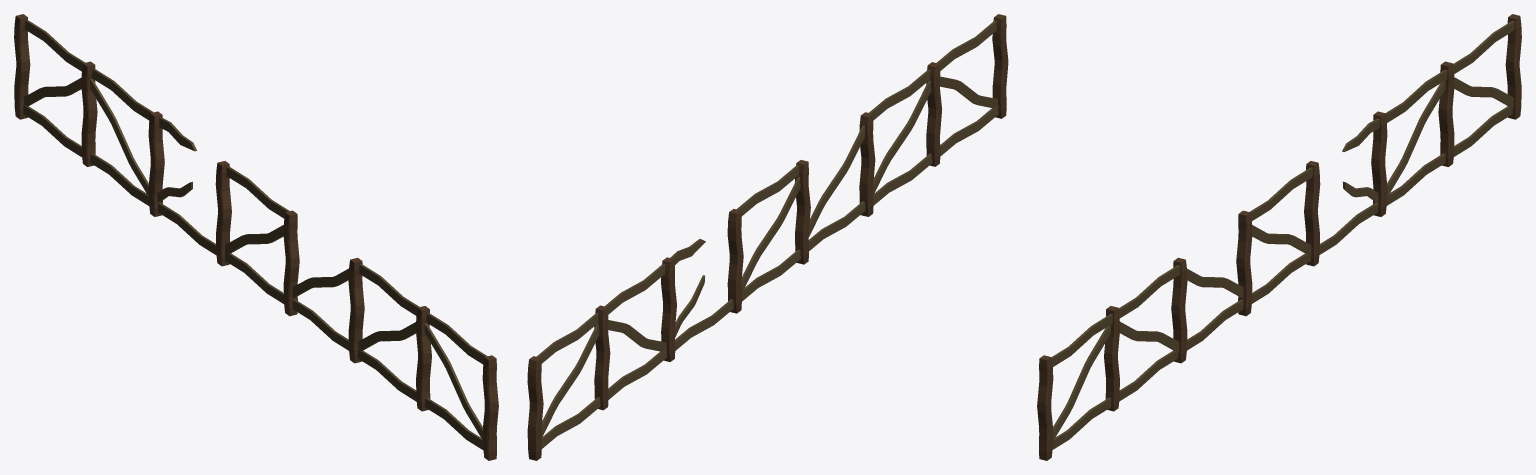
File: Fence2.fbx
3 views of the same model, side by side, from view 1: azimuth 30°, elevation 25°; view 2: azimuth 150°, elevation 25°; view 3: azimuth 330°, elevation 25° (orthographic).
Parts seen in each view (by area): view 1: Cube.027, Cube.002, Cube, Cube.021, Cube.011, Cube.016, Cube.007, Cube.023, Cube.015, Cube.022, Cube.006, Cube.025 (+14 smaller); view 2: Cube.021, Cube.007, Cube.027, Cube, Cube.016, Cube.011, Cube.023, Cube.002, Cube.004, Cube.024, Cube.017, Cube.001 (+14 smaller); view 3: Cube.027, Cube.002, Cube.016, Cube.021, Cube, Cube.011, Cube.007, Cube.023, Cube.015, Cube.022, Cube.006, Cube.026 (+14 smaller).
Part boxes in pixels (<box>): Cube.027: <box>482,355,498,460</box>; Cube.002: <box>283,210,299,316</box>; Cube: <box>348,257,364,363</box>; Cube.021: <box>14,14,30,119</box>; Cube.011: <box>148,111,164,216</box>; Cube.016: <box>81,61,97,166</box>; Cube.007: <box>215,161,231,266</box>; Cube.023: <box>416,306,431,411</box>; Cube.015: <box>90,79,148,196</box>; Cube.022: <box>424,323,482,440</box>; Cube.006: <box>226,166,289,218</box>; Cube.025: <box>357,349,416,401</box>; Cube.021: <box>527,356,543,460</box>; Cube.007: <box>727,209,743,313</box>; Cube.027: <box>992,14,1008,118</box>; Cube: <box>859,112,875,216</box>; Cube.016: <box>594,305,610,410</box>; Cube.011: <box>661,257,676,361</box>; Cube.023: <box>926,62,942,166</box>; Cube.002: <box>795,160,810,264</box>; Cube.004: <box>741,177,800,293</box>; Cube.024: <box>873,81,931,194</box>; Cube.017: <box>541,324,599,437</box>; Cube.001: <box>808,125,864,237</box>; Cube.027: <box>1037,355,1053,460</box>; Cube.002: <box>1236,210,1252,316</box>; Cube.016: <box>1438,61,1454,166</box>; Cube.021: <box>1505,14,1521,119</box>; Cube: <box>1171,257,1187,363</box>; Cube.011: <box>1371,111,1387,216</box>; Cube.007: <box>1304,161,1320,266</box>; Cube.023: <box>1104,306,1119,411</box>; Cube.015: <box>1387,80,1445,197</box>; Cube.022: <box>1053,325,1111,440</box>; Cube.006: <box>1250,167,1313,220</box>; Cube.026: <box>1118,265,1180,318</box>.
Size of the model in its own units: 32.31 by 327 by 2744.
